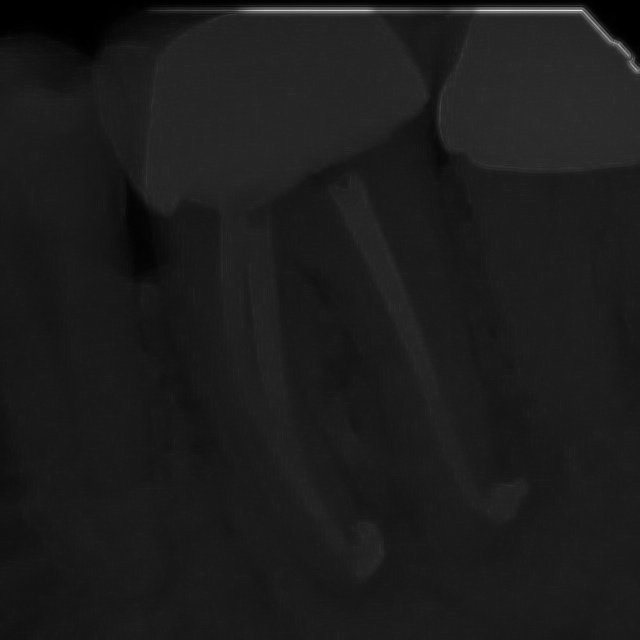Class 0- No endodontic treatment: (82, 9, 590, 616)
